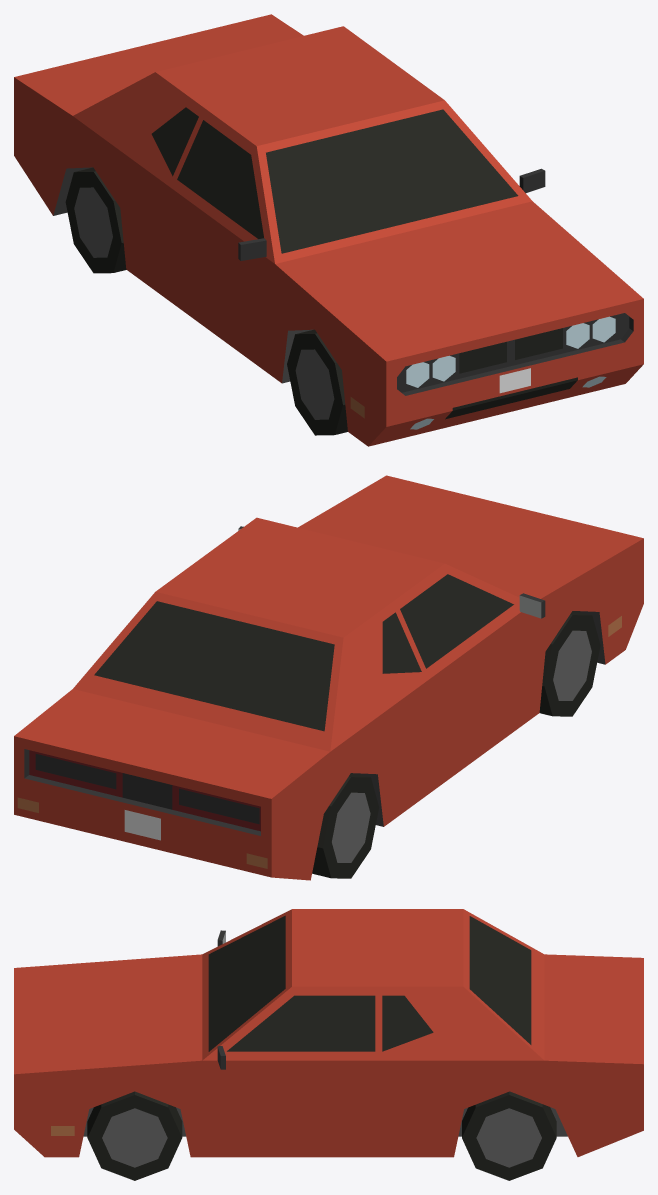
Rendered from Veh_Muscle_Car_01_Red.glb.
3 views of the same model, one above another, from view 1: azimuth 30°, elevation 25°; view 2: azimuth 150°, elevation 25°; view 3: azimuth 270°, elevation 25° (orthographic). The views are drawn at different scales.
Visible parts, largest first — view 1: Muscle_Car_01_Red, Wheel_FR, Wheel_RR; view 2: Muscle_Car_01_Red, Wheel_RR, Wheel_FR; view 3: Muscle_Car_01_Red, Wheel_FL, Wheel_RL.
Part boxes in pixels (bbox=[...]): Muscle_Car_01_Red: bbox=[14, 14, 643, 446]; Wheel_FR: bbox=[287, 329, 347, 435]; Wheel_RR: bbox=[65, 167, 126, 273]; Muscle_Car_01_Red: bbox=[14, 475, 643, 880]; Wheel_RR: bbox=[312, 773, 378, 878]; Wheel_FR: bbox=[539, 611, 600, 716]; Muscle_Car_01_Red: bbox=[14, 909, 643, 1157]; Wheel_FL: bbox=[87, 1091, 182, 1180]; Wheel_RL: bbox=[462, 1091, 556, 1180].
Bounding box in the file's own units: 1.22 × 0.8156 × 2.59.
1 material, 1 textured.
